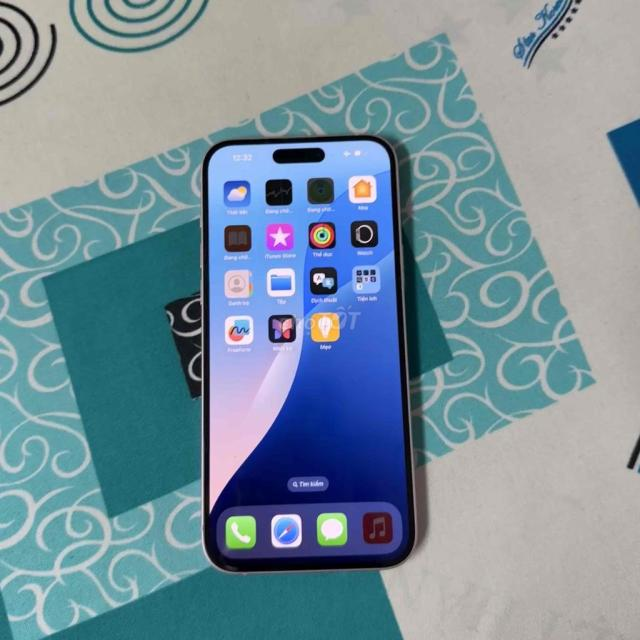gen_15: (189, 124, 431, 585)
